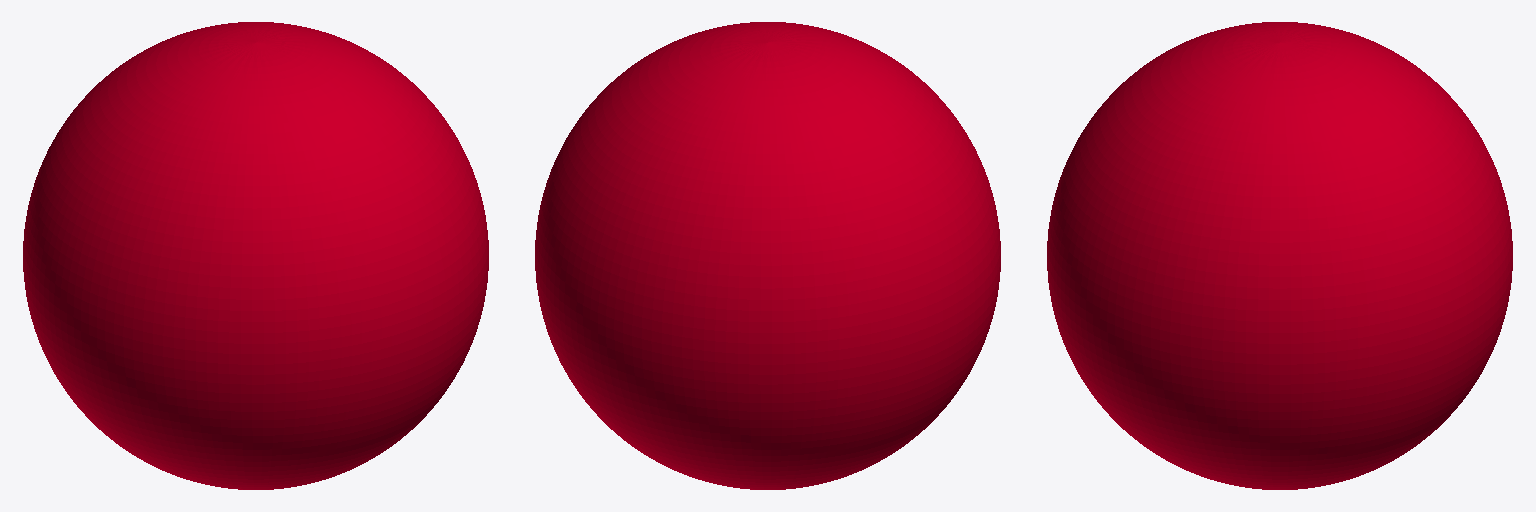
Rendered from player.obj.
3 views of the same model, side by side, from view 1: azimuth 30°, elevation 25°; view 2: azimuth 150°, elevation 25°; view 3: azimuth 270°, elevation 25° (orthographic).
Parts seen in each view (by area): view 1: Sphere; view 2: Sphere; view 3: Sphere.
Part boxes in pixels (x1,y1,x2,y2): Sphere: (23, 22, 488, 489); Sphere: (535, 22, 1000, 489); Sphere: (1047, 22, 1512, 489).
Bounding box in the file's own units: 1.98 × 2 × 1.98.